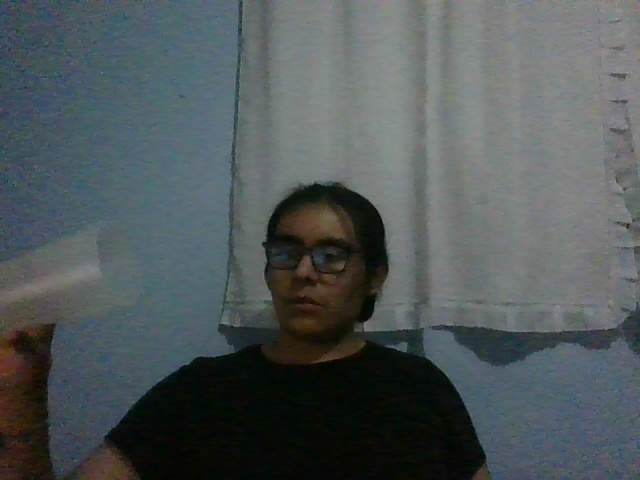vaso: (1, 223, 140, 333)
